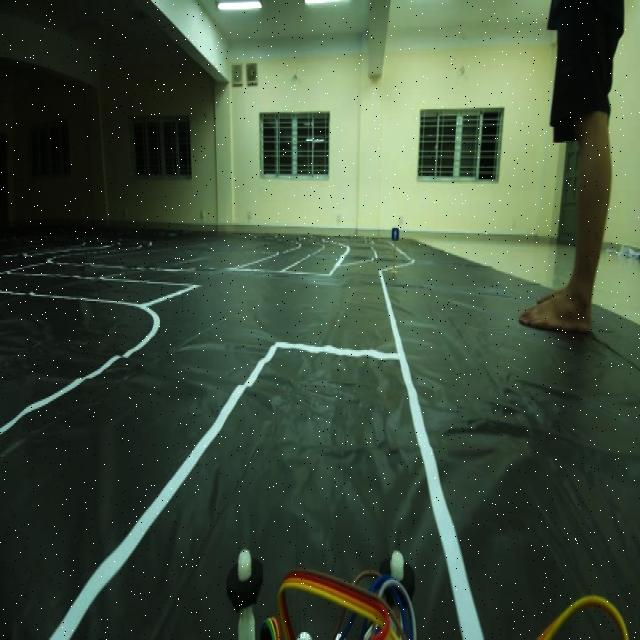onewayroad: (388, 224, 402, 248)
